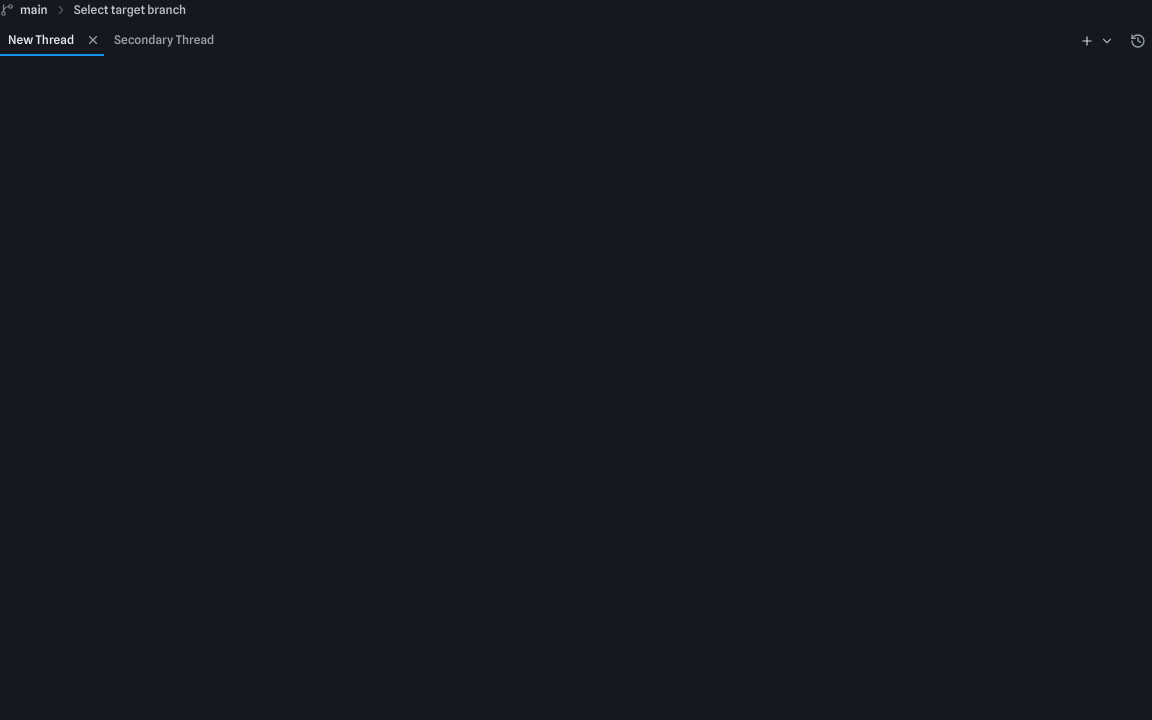
it: WorkspaceHeader › does not list open threads in the history overlay
The image size is (1152, 720).
Step 1. Click the button named "Closed session history" → coordinates (1138, 40), box [1124, 26, 1151, 54]
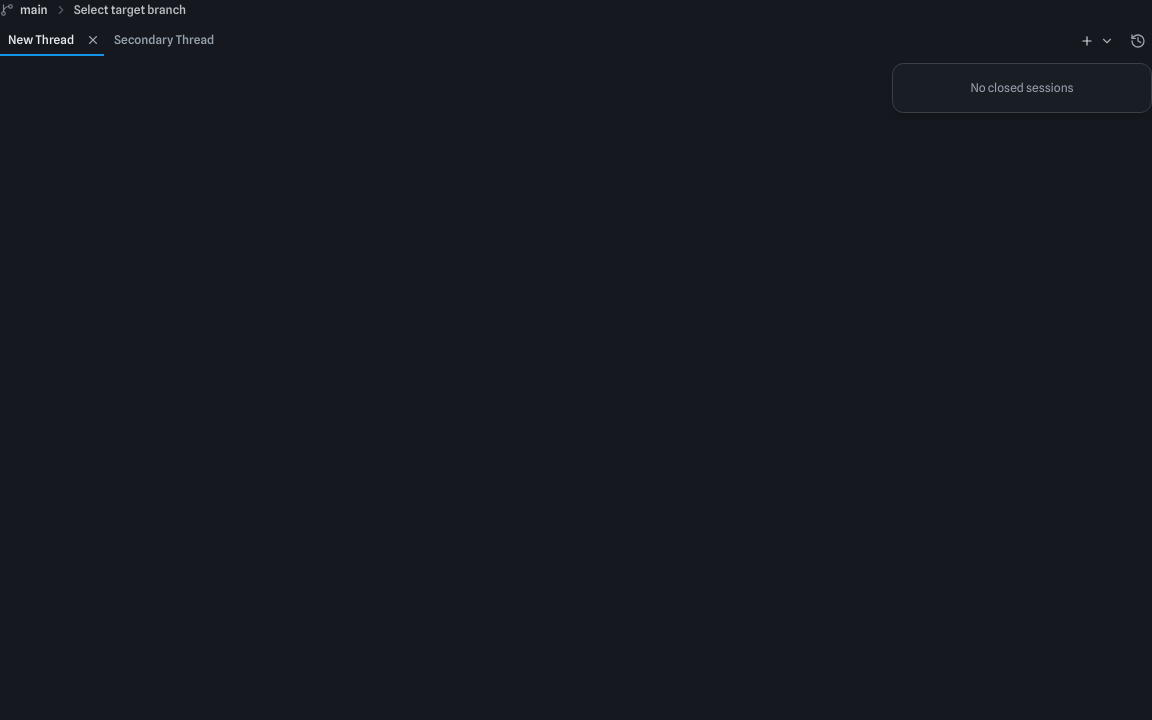
Check: the text "No closed sessions" is shown, box [970, 80, 1074, 95]
